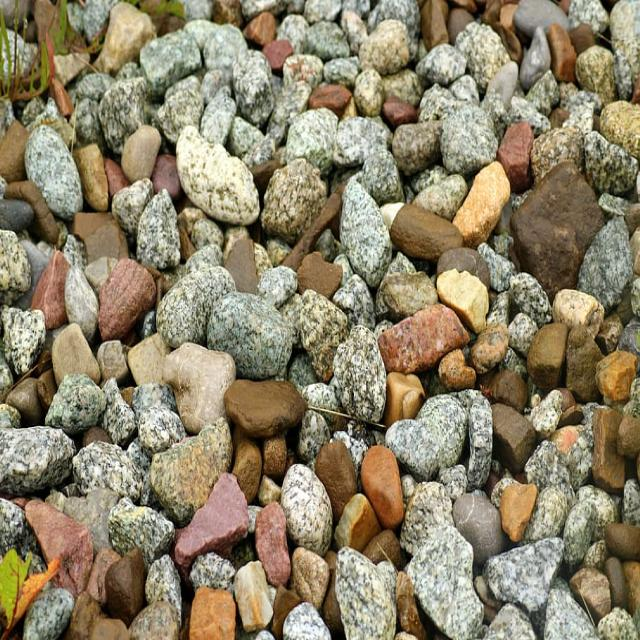Pecahan Agregat: (39, 24, 606, 640)
